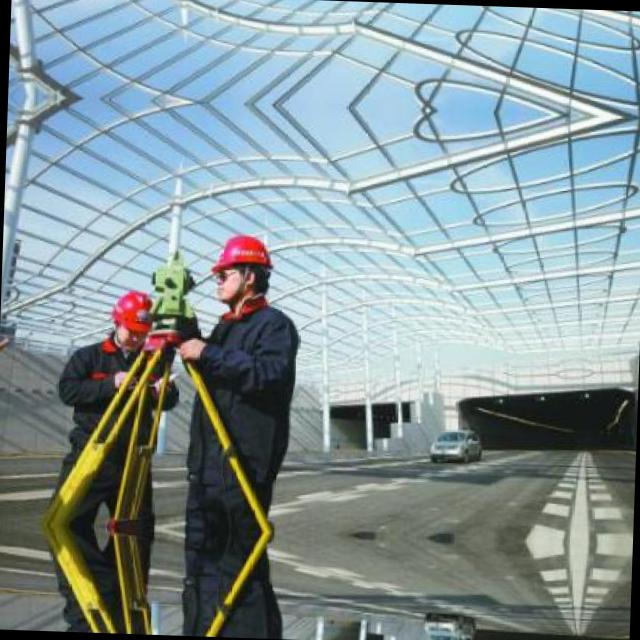helmet: (207, 228, 277, 307), (107, 287, 155, 346)
